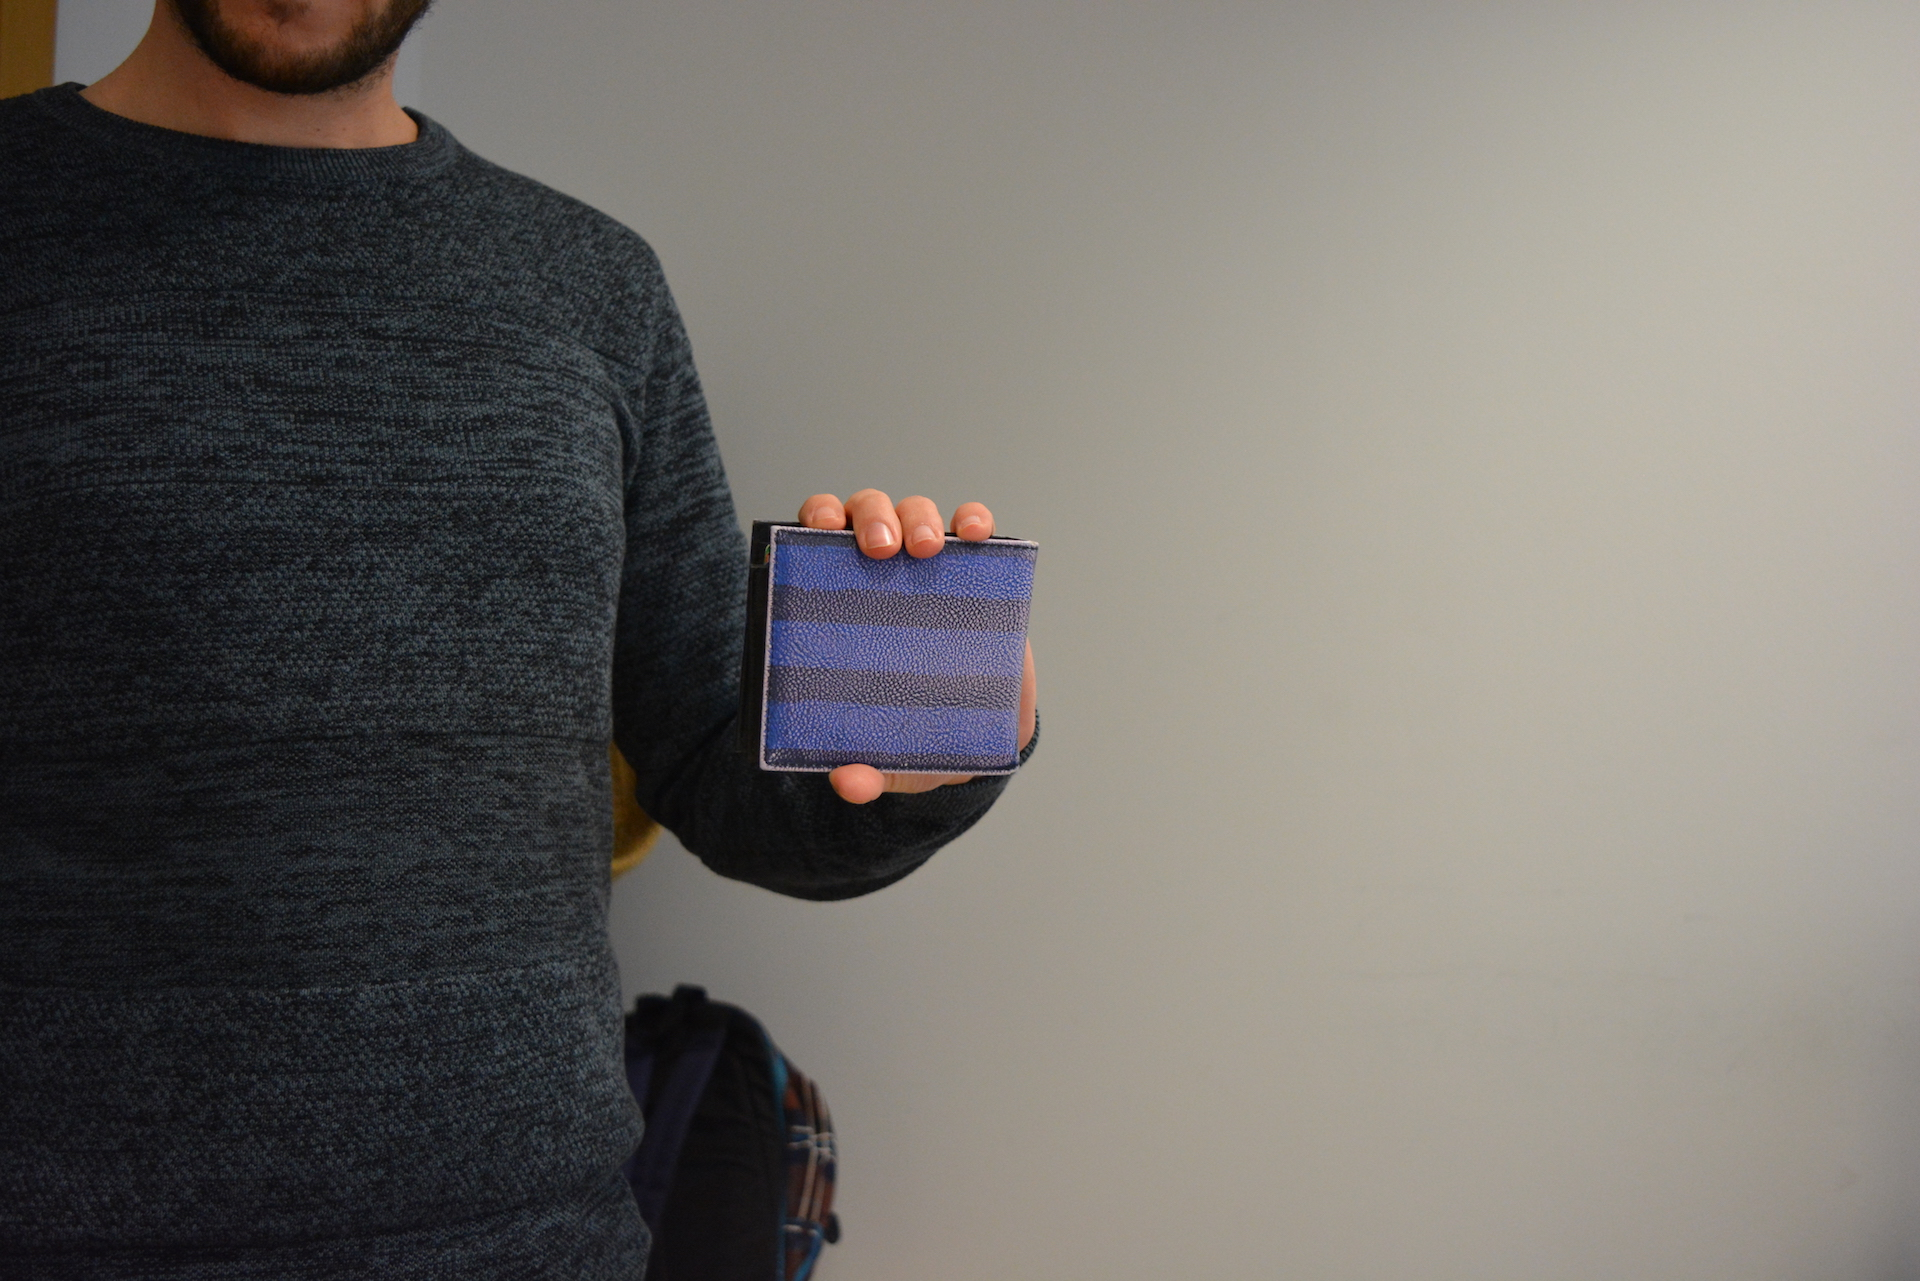monedero: (736, 518, 1042, 779)
